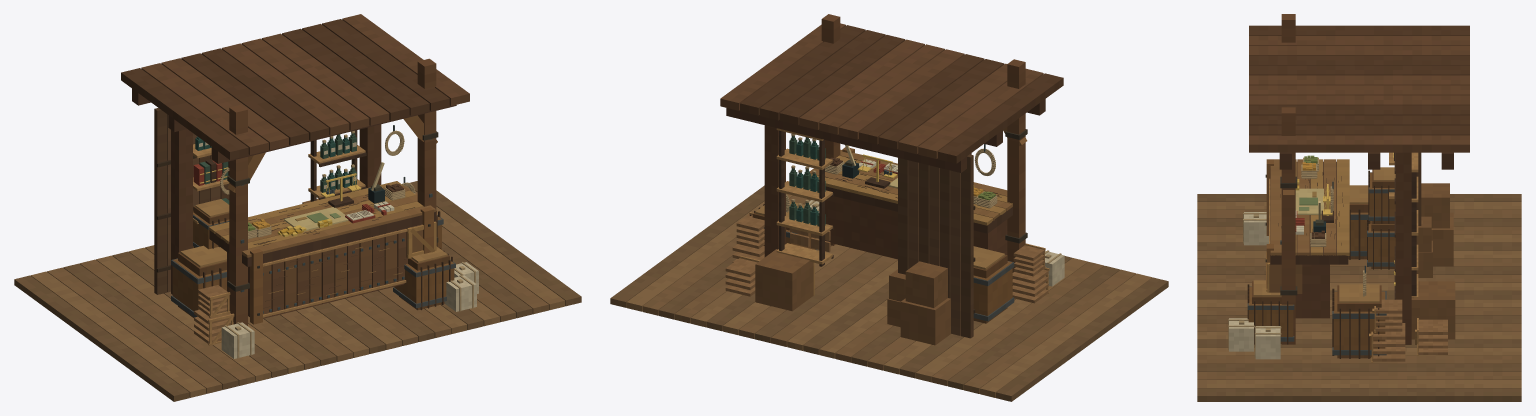
File: trading-post.glb
The picture shows the model from 3 angles, left to right: view 1: azimuth 30°, elevation 25°; view 2: azimuth 150°, elevation 25°; view 3: azimuth 270°, elevation 25°; orthographic projection. The views are drawn at different scales.
Visible parts, largest first — view 1: Original stall, Cargo • stacked crates and tied canvas bales, Stock • rum bottles, jars, books and folded cloth, Joinery • pegs, carved counter trim and plank grain, Cabinet • shelves, drawers and brass pulls, Desk • balance scale, weights, ledger, scrolls and sealing w, Baskets • oranges, limes, coffee beans and cinnamon; view 2: Original stall, Cargo • stacked crates and tied canvas bales, Cabinet • shelves, drawers and brass pulls, Stock • rum bottles, jars, books and folded cloth, Desk • balance scale, weights, ledger, scrolls and sealing w, Baskets • oranges, limes, coffee beans and cinnamon; view 3: Original stall, Cargo • stacked crates and tied canvas bales, Cabinet • shelves, drawers and brass pulls, Baskets • oranges, limes, coffee beans and cinnamon, Desk • balance scale, weights, ledger, scrolls and sealing w.
Boxes of the visible parts, left/top/right/bottom form: Original stall: left=14, top=14, right=581, bottom=401; Cargo • stacked crates and tied canvas bales: left=194, top=190, right=478, bottom=358; Stock • rum bottles, jars, books and folded cloth: left=193, top=131, right=356, bottom=205; Joinery • pegs, carved counter trim and plank grain: left=240, top=138, right=432, bottom=317; Cabinet • shelves, drawers and brass pulls: left=193, top=130, right=366, bottom=223; Desk • balance scale, weights, ledger, scrolls and sealing w: left=321, top=173, right=394, bottom=223; Baskets • oranges, limes, coffee beans and cinnamon: left=248, top=183, right=405, bottom=239; Original stall: left=610, top=14, right=1168, bottom=401; Cargo • stacked crates and tied canvas bales: left=725, top=200, right=1064, bottom=303; Cabinet • shelves, drawers and brass pulls: left=776, top=128, right=833, bottom=266; Stock • rum bottles, jars, books and folded cloth: left=789, top=134, right=825, bottom=226; Desk • balance scale, weights, ledger, scrolls and sealing w: left=857, top=154, right=897, bottom=188; Baskets • oranges, limes, coffee beans and cinnamon: left=825, top=157, right=997, bottom=208; Original stall: left=1197, top=14, right=1521, bottom=401; Cargo • stacked crates and tied canvas bales: left=1228, top=212, right=1447, bottom=362; Cabinet • shelves, drawers and brass pulls: left=1389, top=152, right=1418, bottom=299; Baskets • oranges, limes, coffee beans and cinnamon: left=1295, top=155, right=1326, bottom=246; Desk • balance scale, weights, ledger, scrolls and sealing w: left=1295, top=184, right=1333, bottom=234.
Size of the model in its own units: 32.45 by 17.9 by 22.
